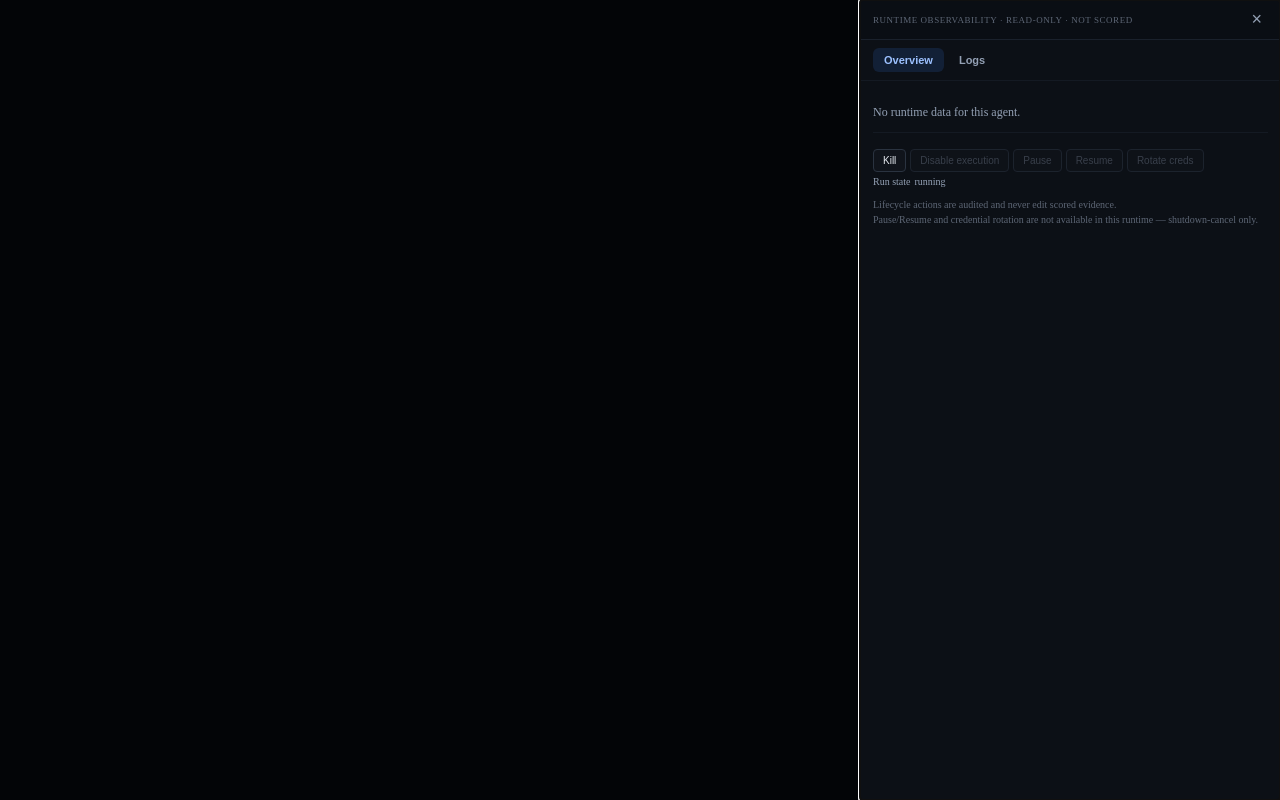
Test case: AgentOpsDrawer (REQ-030..032 / AC-003 / AC-030 / SEC-003 / F-6 live data) › a FAILED kill surfaces a visible error and does NOT show a terminal/success state
Click the button "Kill": (890, 160) left=873, top=149, right=906, bottom=172
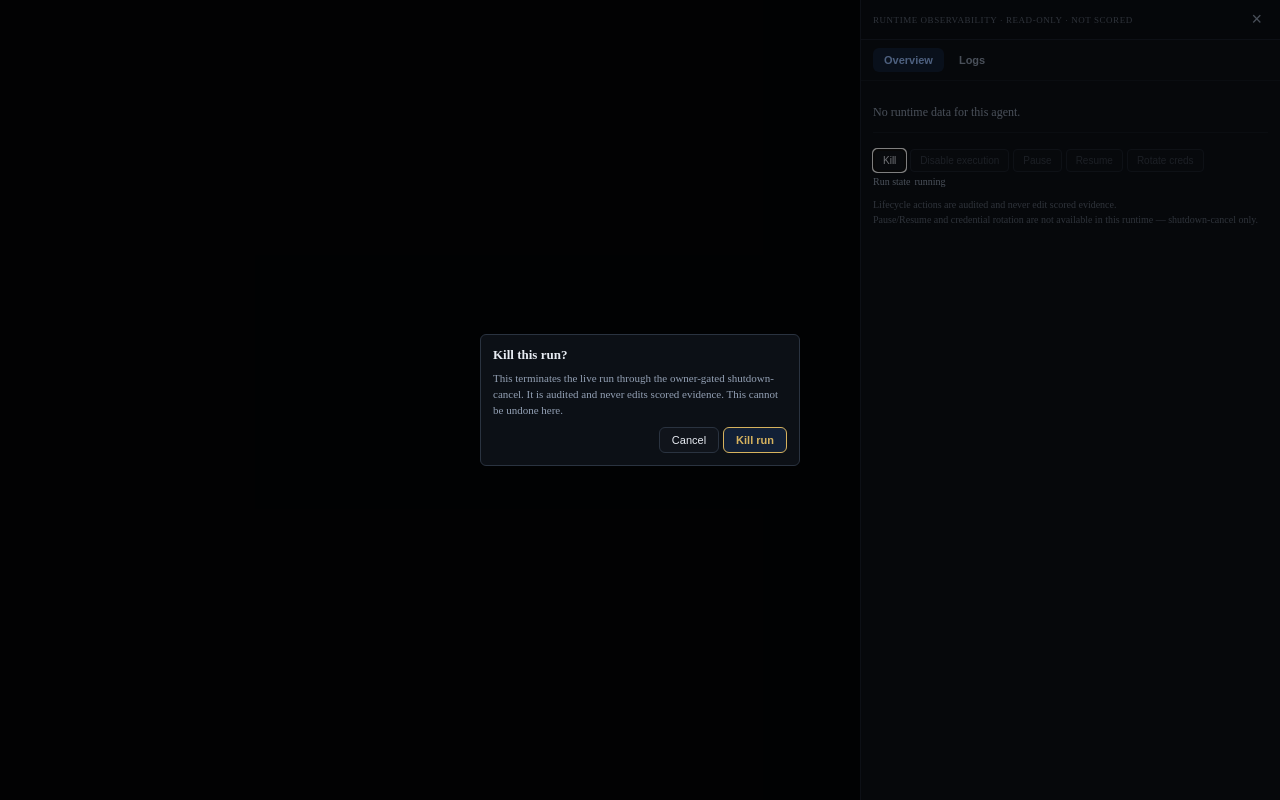
Click the button "Kill run": (755, 440) left=723, top=427, right=787, bottom=453
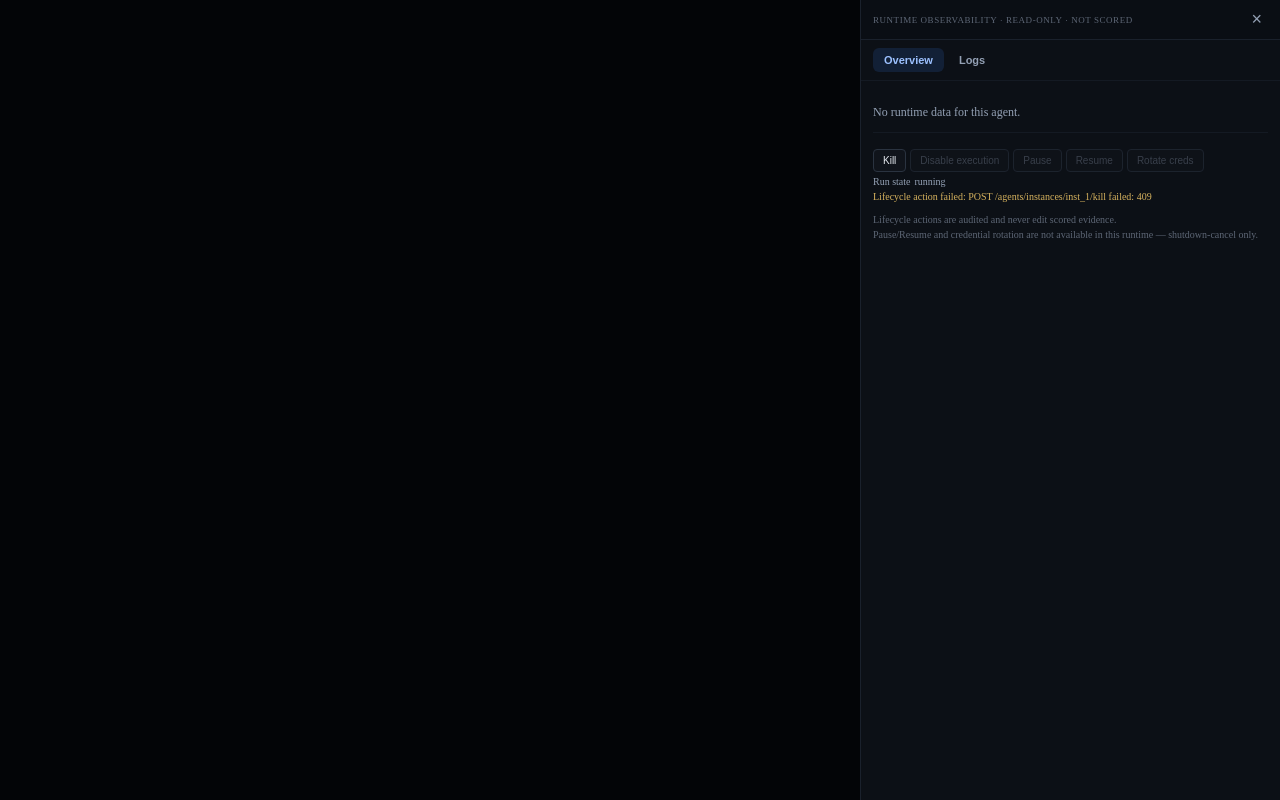
Result: the message reads "Lifecycle action failed: POST /agents/instances/inst_1/kill failed: 409" at left=873, top=191, right=968, bottom=202
